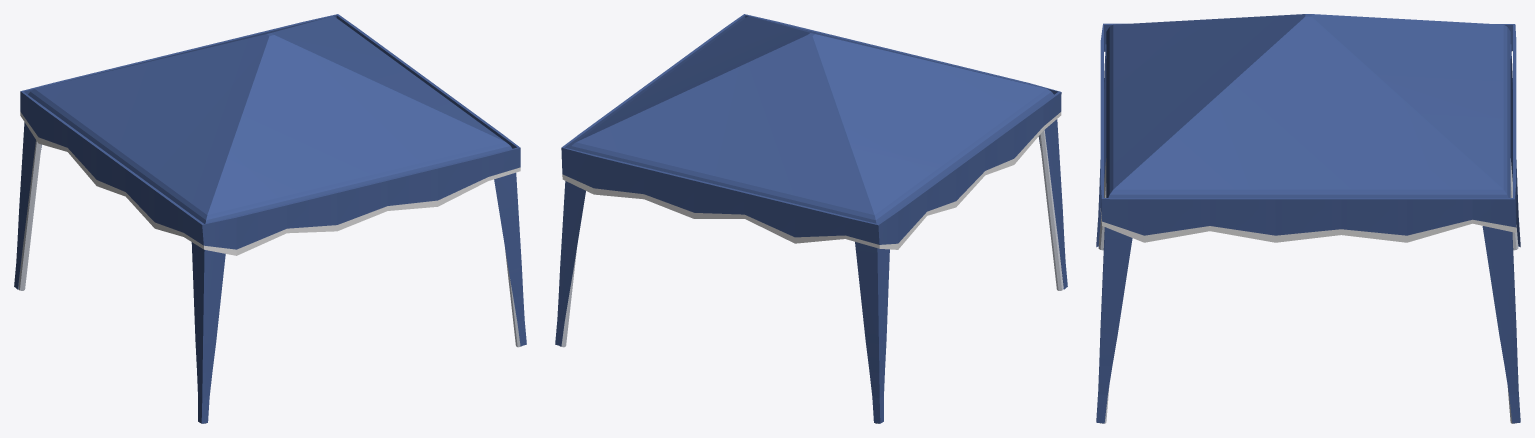
The model's file is camp_tent_popup.gltf.
The picture shows the model from 3 angles, left to right: view 1: azimuth 30°, elevation 25°; view 2: azimuth 150°, elevation 25°; view 3: azimuth 270°, elevation 25°; orthographic projection. The views are drawn at different scales.
Visible parts, largest first — view 1: Cube.001; view 2: Cube.001; view 3: Cube.001.
Boxes of the visible parts, x1=… form: Cube.001: x1=14, y1=14, x2=526, y2=423; Cube.001: x1=555, y1=14, x2=1067, y2=423; Cube.001: x1=1096, y1=14, x2=1520, y2=423.
Bounding box in the file's own units: 2.1 × 1.75 × 2.1.
Materials: 1 (1 with a texture image).
